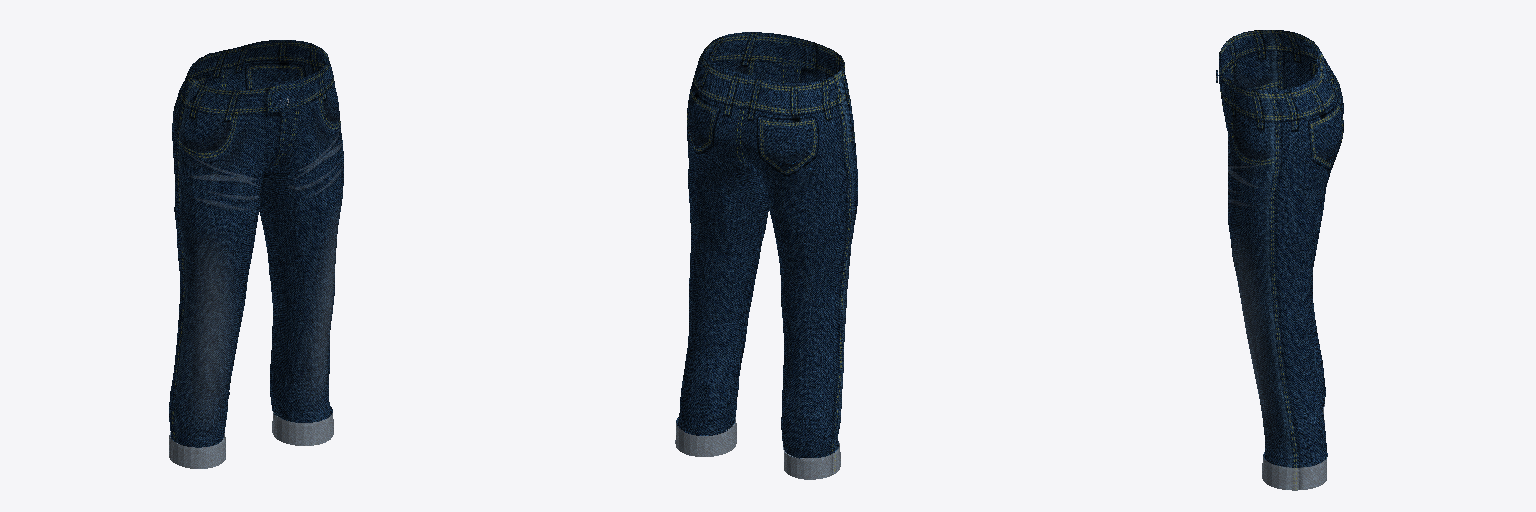
3 renders of one model, left to right at view 1: azimuth 30°, elevation 25°; view 2: azimuth 150°, elevation 25°; view 3: azimuth 270°, elevation 25°, orthographic.
Size of the model in its own units: 15.09 by 35.02 by 10.41.
Materials: 1 (1 with a texture image).